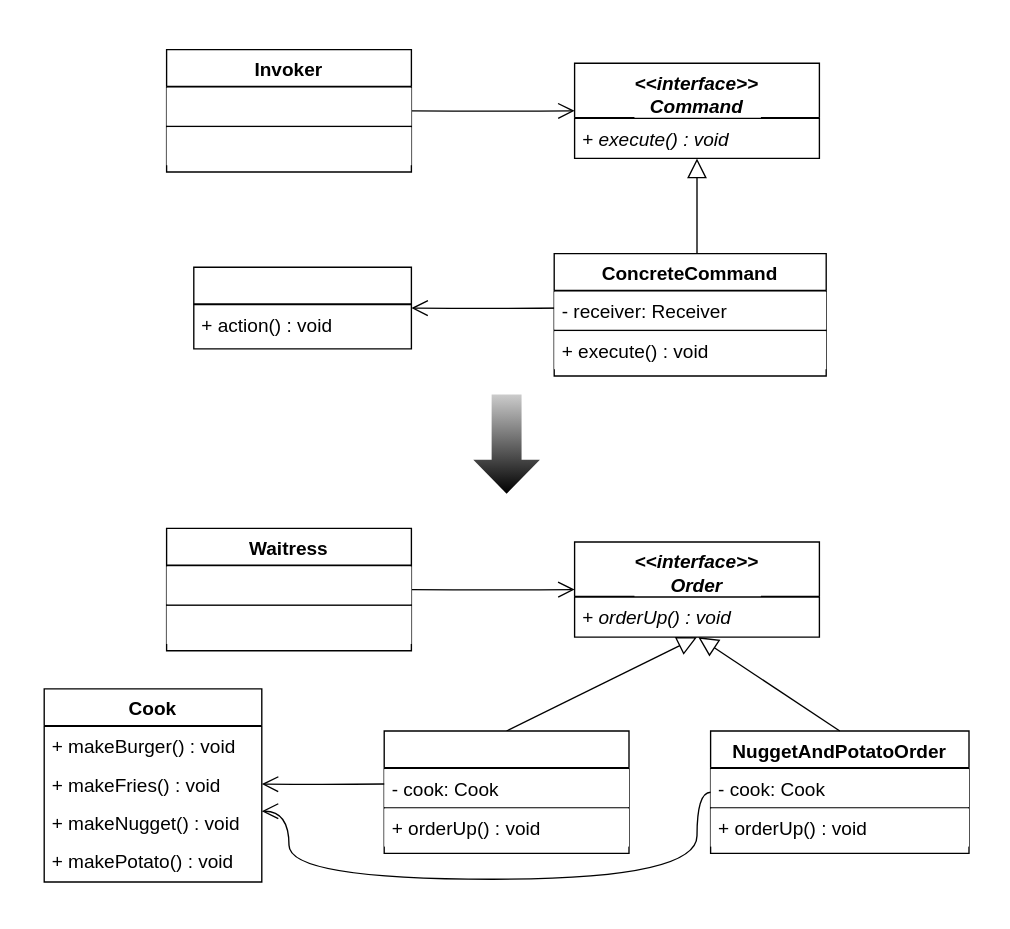
The diagram is 1010 pixels wide and 929 high, and some of its shapes have lost their labels. The box of each missing label's shape, as (x1, y1, x2, y2) in pixels:
+ setCommand() : void: (166, 126, 411, 165)
+ takeOrder() : void: (166, 605, 411, 643)
- command: Command: (166, 87, 411, 125)
- order: Order: (166, 566, 411, 604)
BurgerAndFriesOrder: (383, 730, 629, 853)
Receiver: (192, 266, 411, 349)
